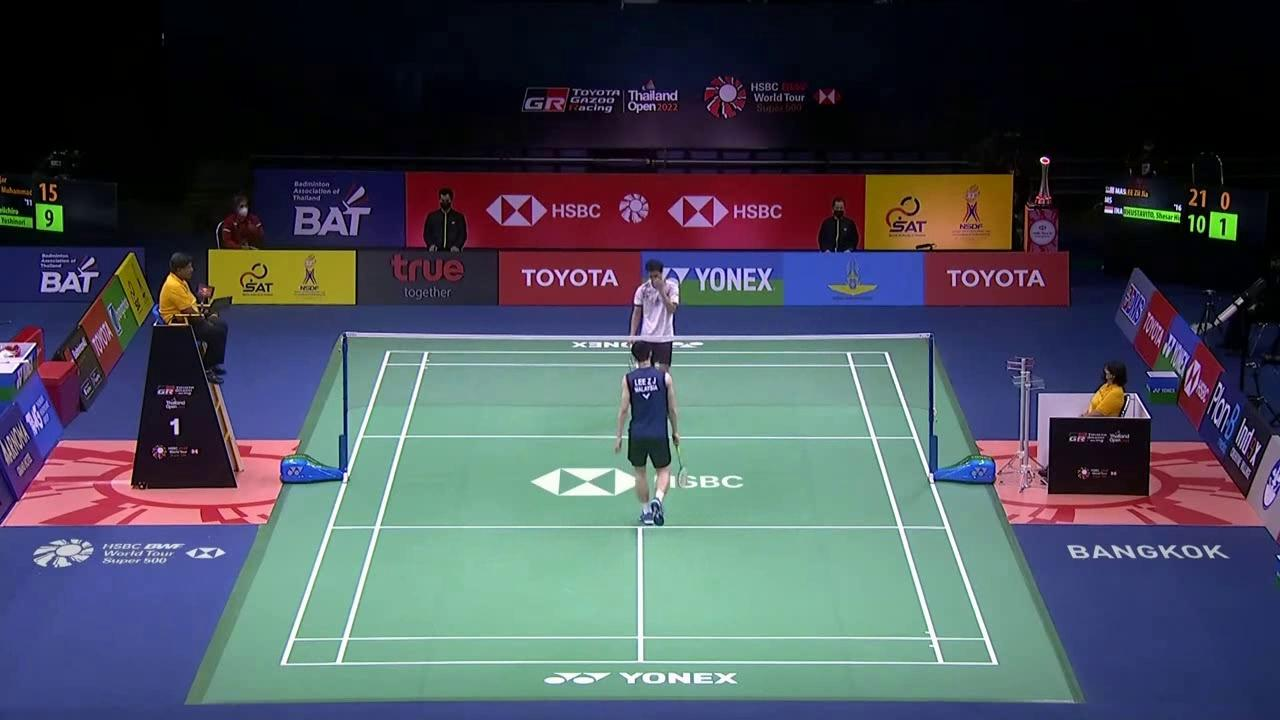racket: (673, 431, 688, 488), (628, 340, 637, 372)
